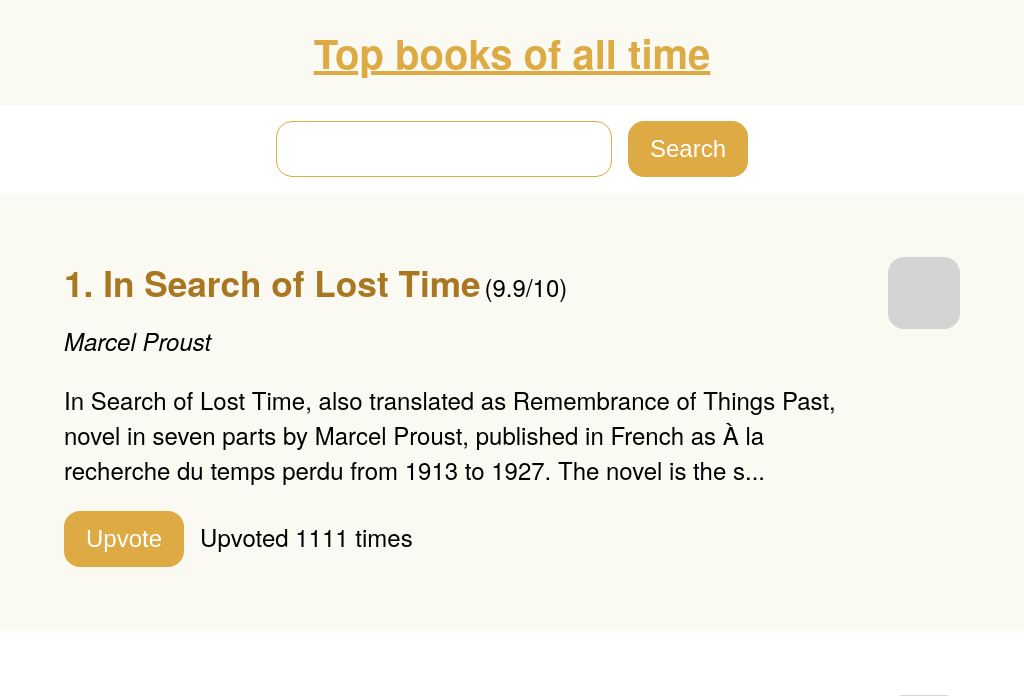
Test: Top books › Checks if the Upvote button works
The width and height of the screenshot is (1024, 696).
Expected: the text with test id "upvote-count" reads "Upvoted 1111 times", [200,519,413,554]
Click the button with test id "upvote". click: (124, 539)
box: [64,511,184,567]
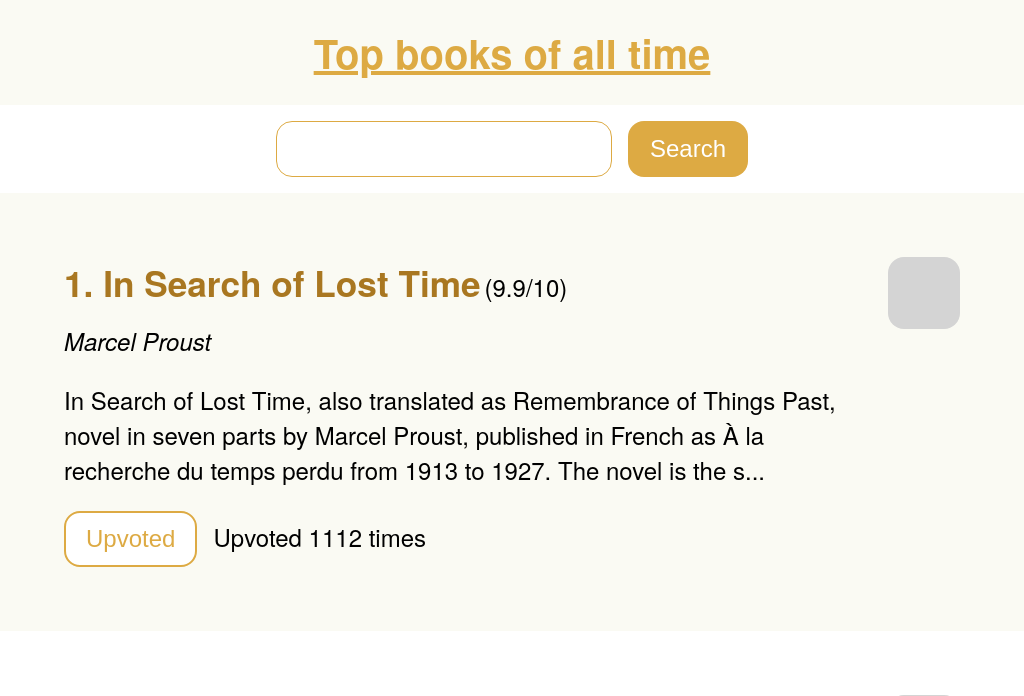
Expected: the text with test id "upvote-count" reads "Upvoted 1112 times", [213,519,426,554]
